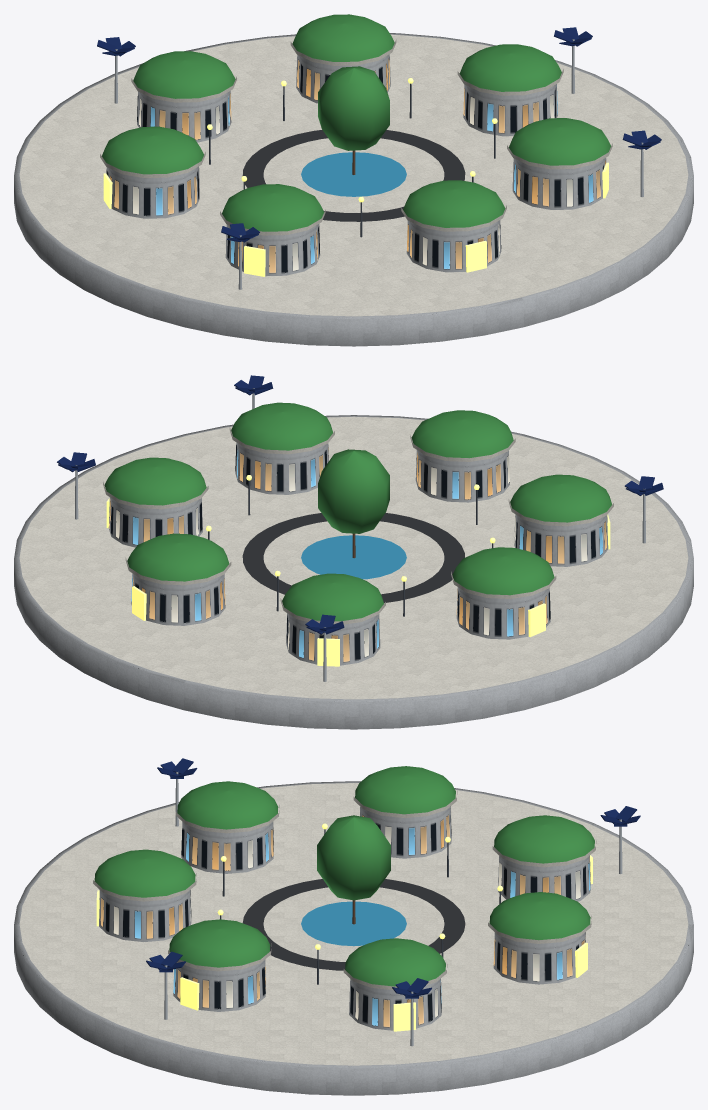
File: earth_meadow_village.glb
3 renders of one model, top to bottom at view 1: azimuth 30°, elevation 25°; view 2: azimuth 150°, elevation 25°; view 3: azimuth 270°, elevation 25°, orthographic.
Visible parts, largest first — view 1: earth_meadow_village_LOD0; view 2: earth_meadow_village_LOD0; view 3: earth_meadow_village_LOD0.
Part boxes in pixels (<box>): earth_meadow_village_LOD0: <box>14,14,693,346</box>; earth_meadow_village_LOD0: <box>14,375,693,729</box>; earth_meadow_village_LOD0: <box>14,758,693,1095</box>.
Size of what is drawn, in the model's own units: 48.8 by 10.68 by 48.8.
Materials: 3 (3 with a texture image).
